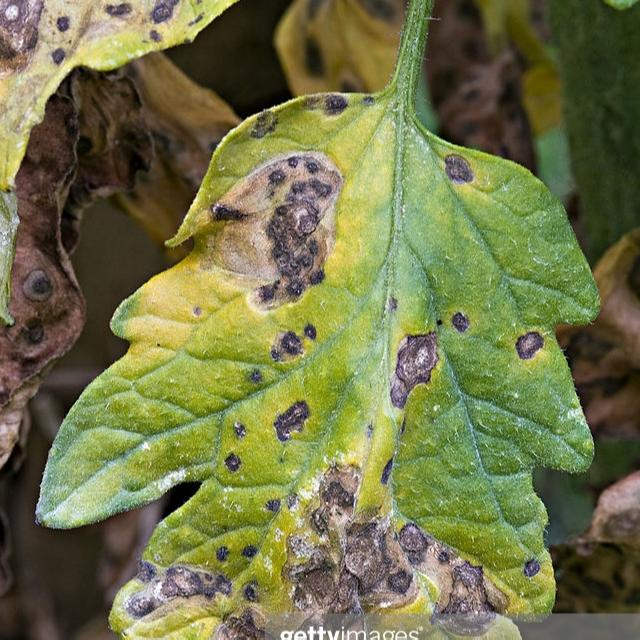Tomato Septoria leaf spot: (4, 74, 599, 640)
